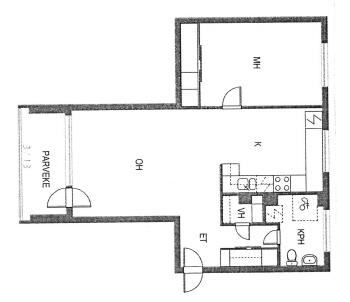bathroom: (277, 196, 325, 264)
door: (45, 186, 73, 210), (181, 266, 205, 293), (220, 85, 243, 111), (66, 185, 92, 208), (182, 247, 204, 274), (234, 222, 251, 242), (260, 229, 282, 244)
perimeter: (63, 16, 332, 274)
window: (64, 110, 73, 189), (319, 38, 330, 89), (320, 126, 330, 176), (322, 206, 330, 255)
